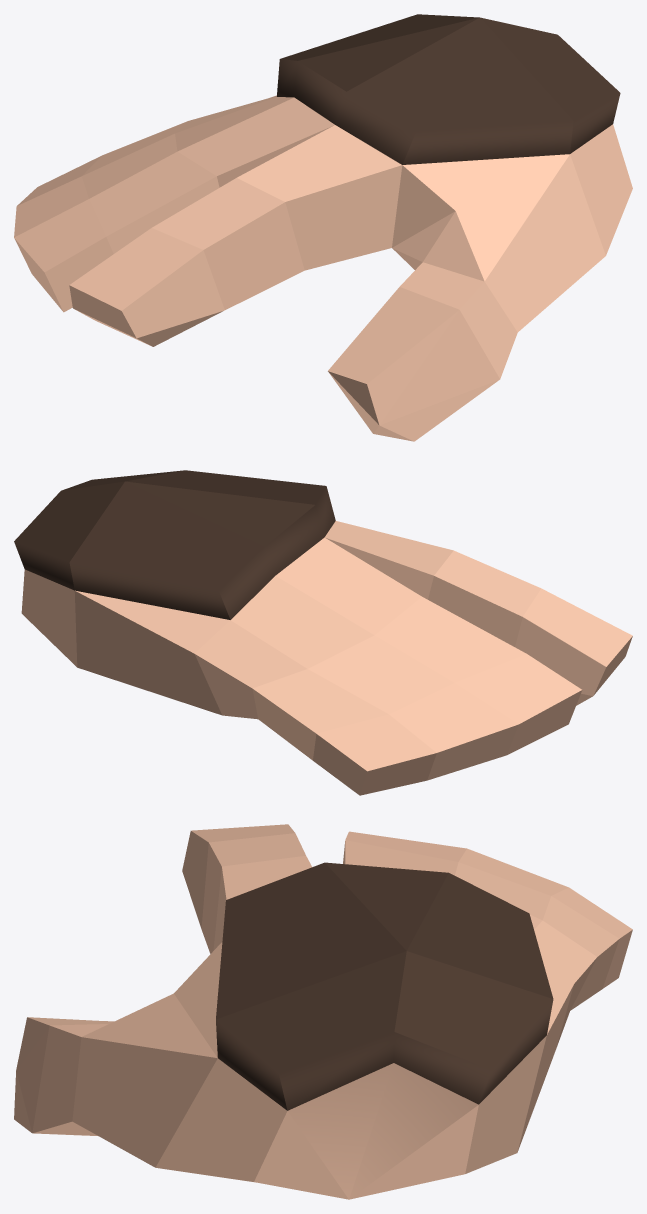
The model's file is Chr_HandRight_Male_16_Static.fbx.
The picture shows the model from 3 angles, top to bottom: view 1: azimuth 30°, elevation 25°; view 2: azimuth 150°, elevation 25°; view 3: azimuth 270°, elevation 25°; orthographic projection. The views are drawn at different scales.
Visible parts, largest first — view 1: Chr_HandRight_Male_16_Static; view 2: Chr_HandRight_Male_16_Static; view 3: Chr_HandRight_Male_16_Static.
Boxes of the visible parts, box(x1,y1,x2,y2) form: Chr_HandRight_Male_16_Static: box(14, 14, 632, 441); Chr_HandRight_Male_16_Static: box(14, 470, 632, 795); Chr_HandRight_Male_16_Static: box(14, 824, 632, 1199).
Bounding box in the file's own units: 0.2335 × 0.1083 × 0.188.
